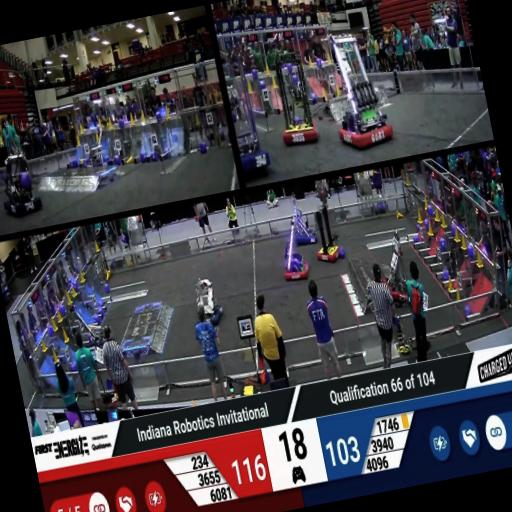robot: (318, 25, 396, 154), (220, 51, 274, 174), (268, 50, 322, 148), (374, 228, 418, 310), (0, 149, 47, 222), (274, 214, 312, 288), (188, 274, 228, 330), (310, 205, 346, 267), (281, 190, 318, 248), (82, 319, 116, 363), (80, 140, 112, 172)
